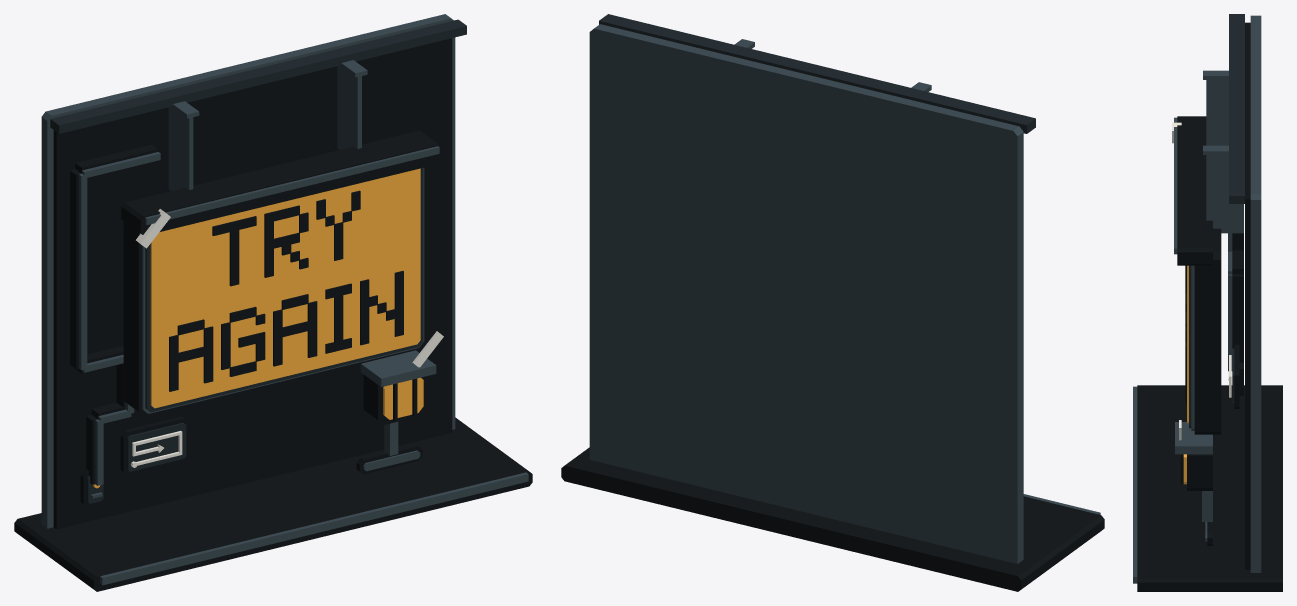
3 views of the same model, side by side, from view 1: azimuth 30°, elevation 25°; view 2: azimuth 150°, elevation 25°; view 3: azimuth 270°, elevation 25° (orthographic). The views are drawn at different scales.
Parts seen in each view (by area): view 1: Exit Liquidity sign; view 2: Exit Liquidity sign; view 3: Exit Liquidity sign.
Part boxes in pixels (box(x1,y1,x2,y2)): Exit Liquidity sign: box(14, 14, 532, 591); Exit Liquidity sign: box(561, 14, 1104, 591); Exit Liquidity sign: box(1133, 14, 1282, 591).
Size of the model in its own units: 1.08 by 1 by 0.3475.
